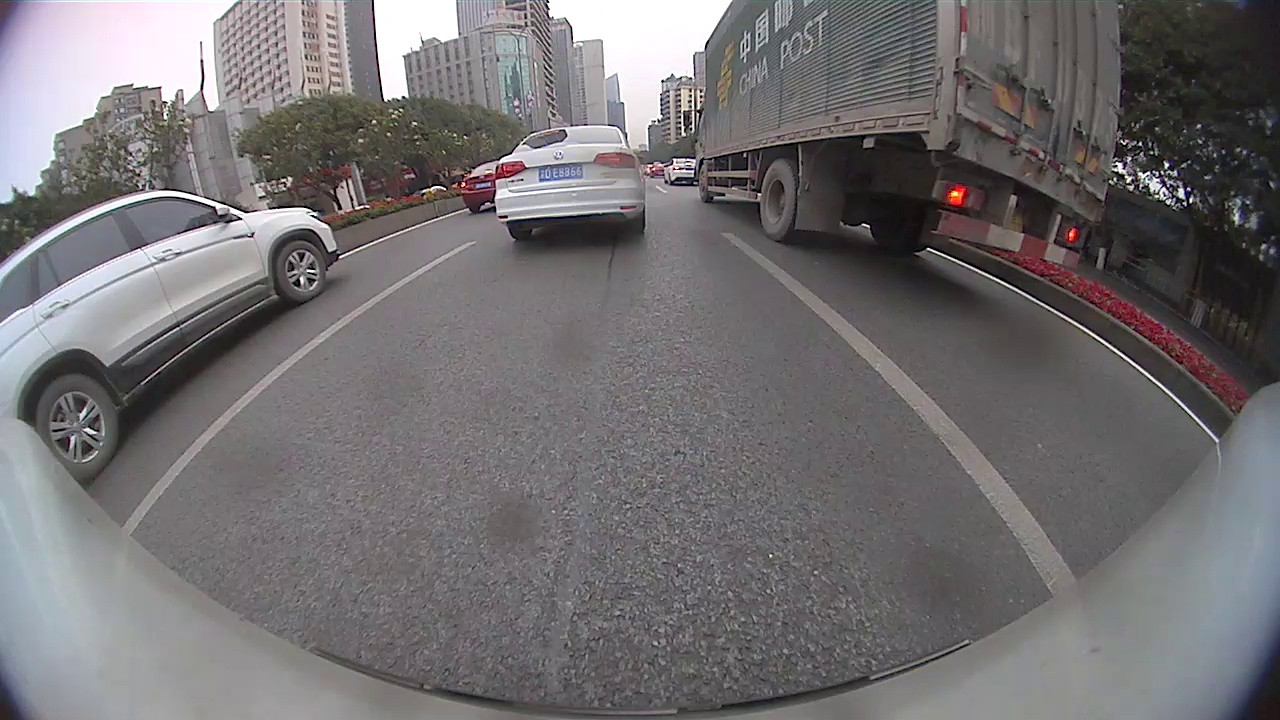car: (1, 188, 339, 485), (494, 123, 645, 244), (463, 159, 506, 214), (660, 155, 698, 187)
front: (276, 240, 328, 302), (697, 163, 711, 203)
rear: (35, 373, 119, 482), (758, 157, 797, 240)
truck: (693, 2, 1122, 272)
